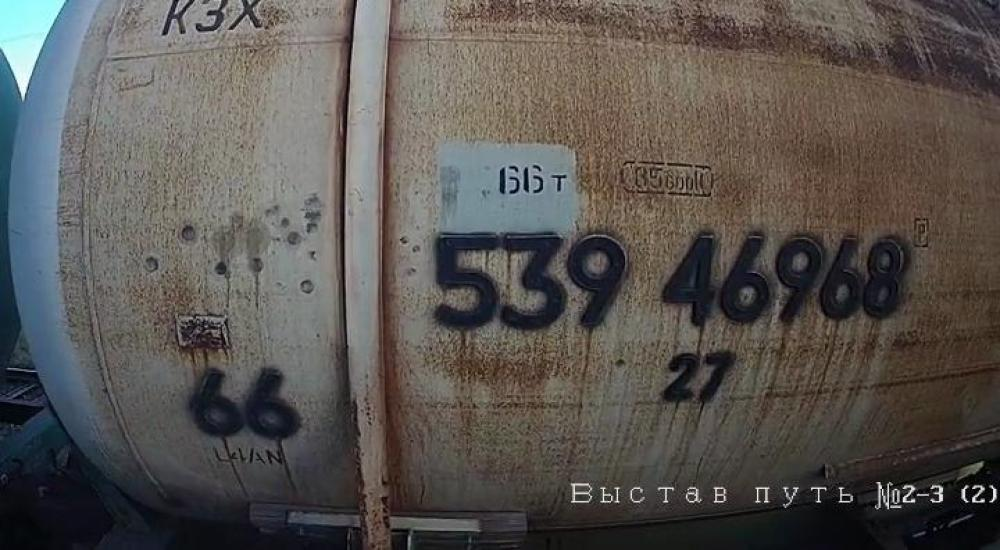Wagon-number: (428, 231, 911, 335)
